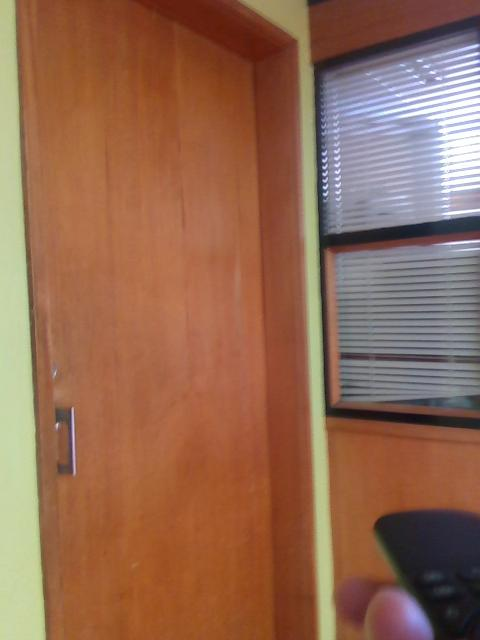door: (36, 1, 271, 640)
